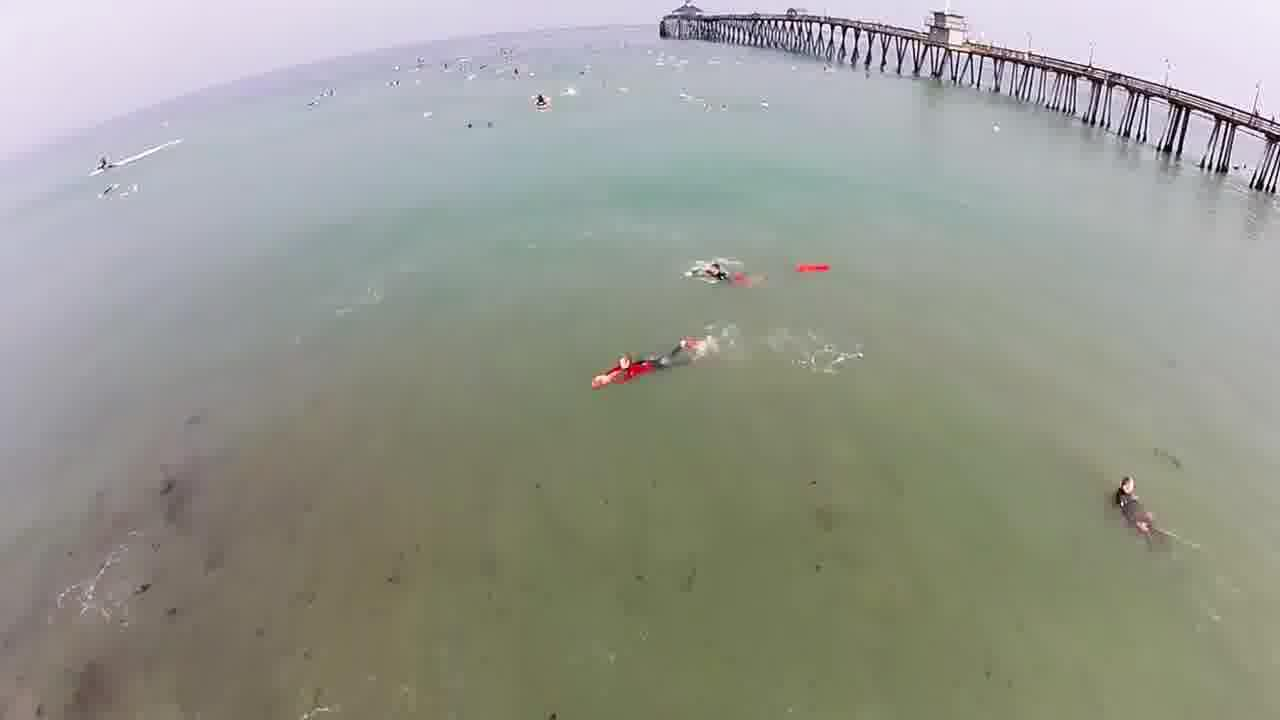swimmer: (1105, 456, 1170, 544), (592, 347, 687, 386), (685, 254, 748, 285)
